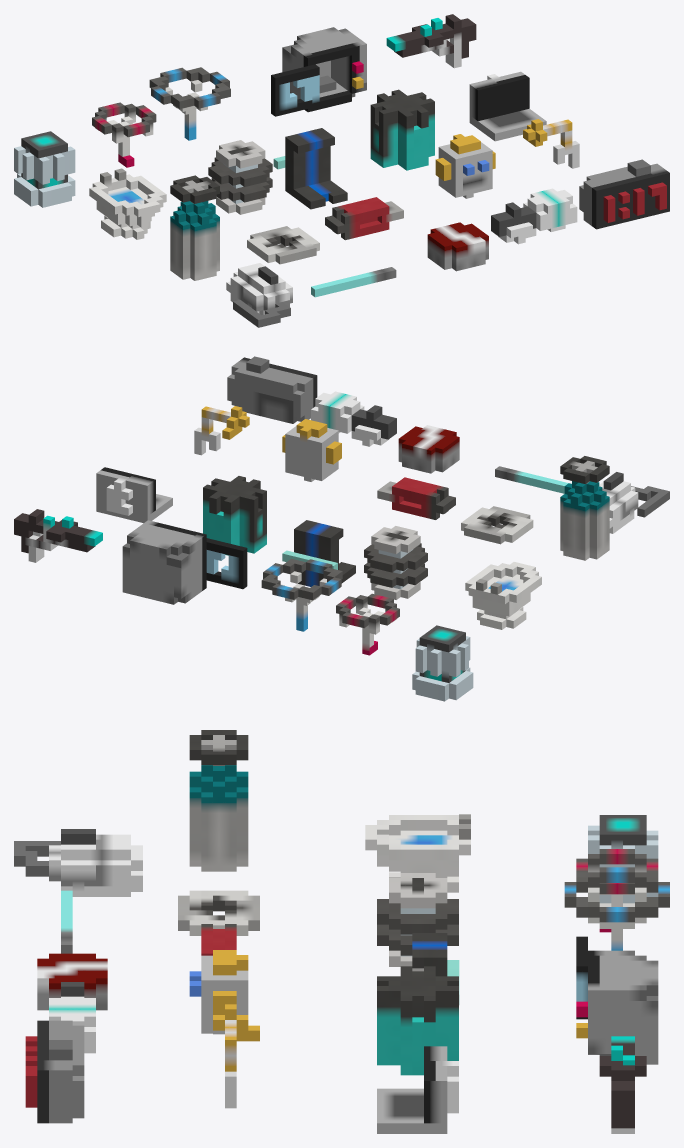
The model's file is ui_normal_parts.dae.
The picture shows the model from 3 angles, top to bottom: view 1: azimuth 30°, elevation 25°; view 2: azimuth 150°, elevation 25°; view 3: azimuth 270°, elevation 25°; orthographic projection. The views are drawn at different scales.
Visible parts, largest first — view 1: parts_microoven_2, parts_digitalclock_1, parts_oxygentank_2, parts_cylinder_6, parts_cylinder3_2, parts_seat_2, parts_toilet_2, parts_cylinder_5, parts_macbook_2, parts_mouse_1, parts_portalgun_2, parts_robothead_2 (+8 smaller); view 2: parts_microoven_2, parts_oxygentank_2, parts_digitalclock_1, parts_cylinder_6, parts_cylinder3_2, parts_cylinder_5, parts_toilet_2, parts_macbook_2, parts_robothead_2, parts_portalgun_2, parts_brokenlasergun_2, parts_brokenhandle_6 (+8 smaller); view 3: parts_microoven_2, parts_oxygentank_2, parts_cylinder_6, parts_mouse_1, parts_toilet_2, parts_digitalclock_1, parts_cylinder_5, parts_macbook_2, parts_brokenhandle_6, parts_robothead_2, parts_cdrom_2, parts_nucacoke_2 (+8 smaller).
Part boxes in pixels (left/top/right/bottom): parts_microoven_2: left=271, top=27, right=366, bottom=116; parts_digitalclock_1: left=579, top=159, right=669, bottom=229; parts_oxygentank_2: left=170, top=175, right=219, bottom=280; parts_cylinder_6: left=370, top=89, right=434, bottom=170; parts_cylinder3_2: left=14, top=131, right=75, bottom=207; parts_seat_2: left=273, top=128, right=347, bottom=209; parts_toilet_2: left=89, top=168, right=166, bottom=239; parts_cylinder_5: left=208, top=140, right=272, bottom=214; parts_macbook_2: left=469, top=71, right=546, bottom=141; parts_mouse_1: left=226, top=263, right=292, bottom=327; parts_portalgun_2: left=491, top=188, right=577, bottom=244; parts_robothead_2: left=435, top=134, right=495, bottom=198; parts_microoven_2: left=122, top=520, right=247, bottom=604; parts_oxygentank_2: left=560, top=456, right=609, bottom=560; parts_digitalclock_1: left=227, top=356, right=317, bottom=423; parts_cylinder_6: left=203, top=476, right=266, bottom=555; parts_cylinder3_2: left=412, top=625, right=473, bottom=701; parts_cylinder_5: left=364, top=526, right=427, bottom=599; parts_toilet_2: left=465, top=562, right=541, bottom=629; parts_macbook_2: left=96, top=467, right=172, bottom=523; parts_robothead_2: left=282, top=419, right=341, bottom=481; parts_portalgun_2: left=311, top=391, right=396, bottom=446; parts_brokenlasergun_2: left=14, top=509, right=102, bottom=562; parts_brokenhandle_6: left=261, top=558, right=342, bottom=631; parts_microoven_2: left=576, top=936, right=658, bottom=1064; parts_oxygentank_2: left=189, top=730, right=248, bottom=871; parts_cylinder_6: left=377, top=966, right=458, bottom=1075; parts_mouse_1: left=14, top=829, right=142, bottom=896; parts_toilet_2: left=365, top=814, right=470, bottom=892; parts_digitalclock_1: left=25, top=1020, right=84, bottom=1123; parts_cylinder_5: left=377, top=873, right=458, bottom=971; parts_macbook_2: left=377, top=1046, right=458, bottom=1133; parts_brokenhandle_6: left=564, top=867, right=669, bottom=950; parts_robothead_2: left=189, top=950, right=248, bottom=1034; parts_cdrom_2: left=178, top=890, right=259, bottom=935; parts_nucacoke_2: left=37, top=953, right=107, bottom=1010.
Bounding box in the file's own units: 61 × 15 × 56.
